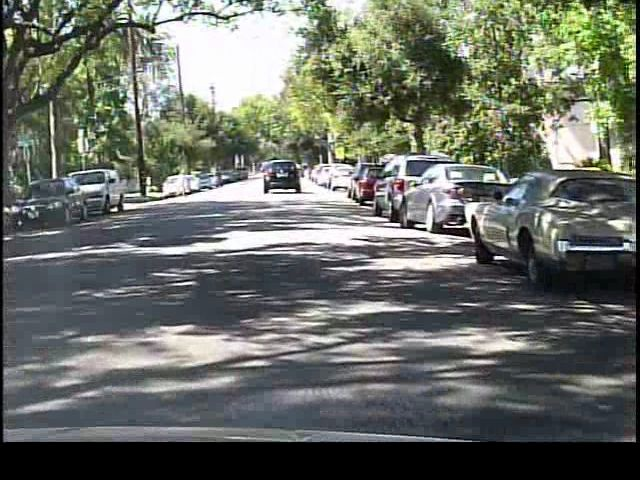person: (175, 167, 191, 201)
